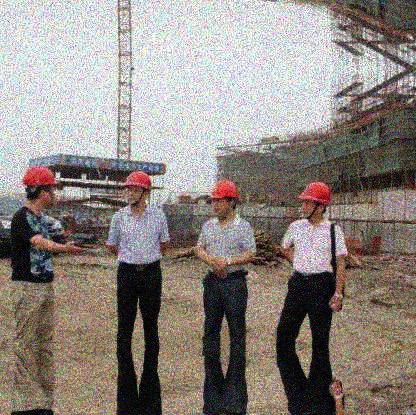helmet: (23, 166, 59, 208), (298, 181, 333, 218), (209, 178, 239, 217), (124, 170, 152, 205)
